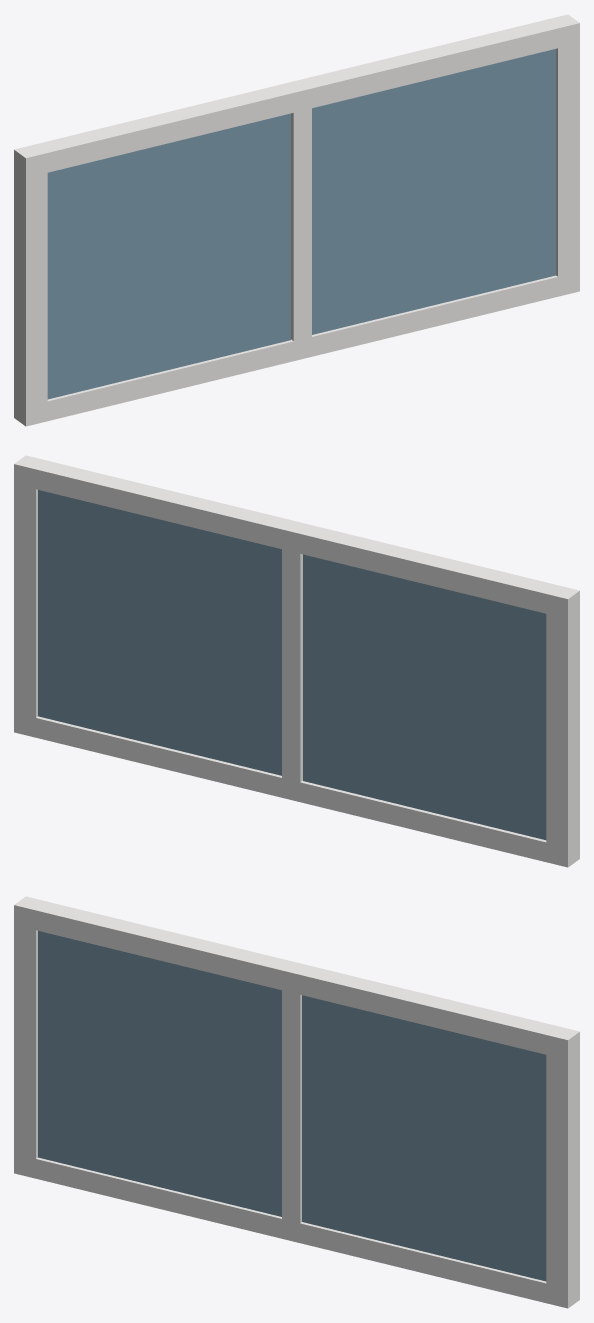
Rendered from Window_2.fbx.
The picture shows the model from 3 angles, top to bottom: view 1: azimuth 30°, elevation 25°; view 2: azimuth 150°, elevation 25°; view 3: azimuth 330°, elevation 25°; orthographic projection.
Visible parts, largest first — view 1: Window_2; view 2: Window_2; view 3: Window_2.
Part boxes in pixels (x1,y1,x2,y2): Window_2: [14, 14, 579, 426]; Window_2: [14, 455, 579, 867]; Window_2: [14, 896, 579, 1308].
Size of the model in its own units: 352 by 13.1 by 163.
